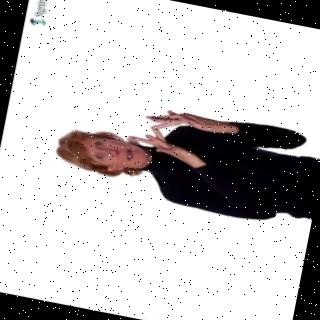Internet: (45, 82, 320, 231)
